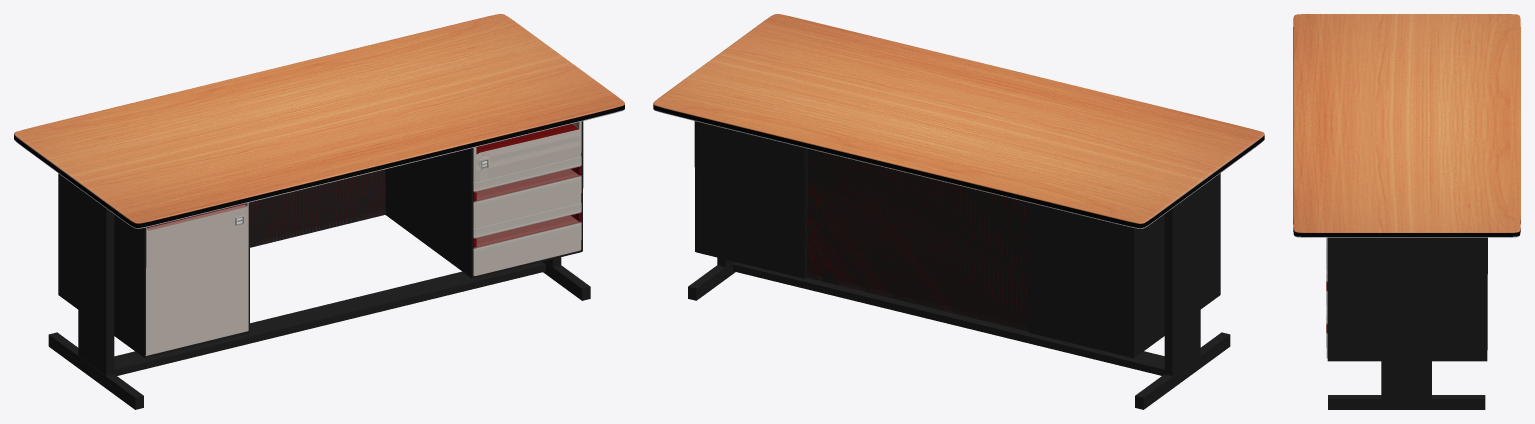
Rendered from desk.glb.
The picture shows the model from 3 angles, left to right: view 1: azimuth 30°, elevation 25°; view 2: azimuth 150°, elevation 25°; view 3: azimuth 270°, elevation 25°; orthographic projection. The views are drawn at different scales.
Parts seen in each view (by area): view 1: officeTable; view 2: officeTable; view 3: officeTable.
Boxes of the visible parts, box(x1,y1,x2,y2) form: officeTable: box(14, 14, 624, 409); officeTable: box(653, 14, 1264, 409); officeTable: box(1293, 14, 1520, 409).
Size of the model in its own units: 1.89 by 0.751 by 0.834.
Materials: 3 (2 with a texture image).
